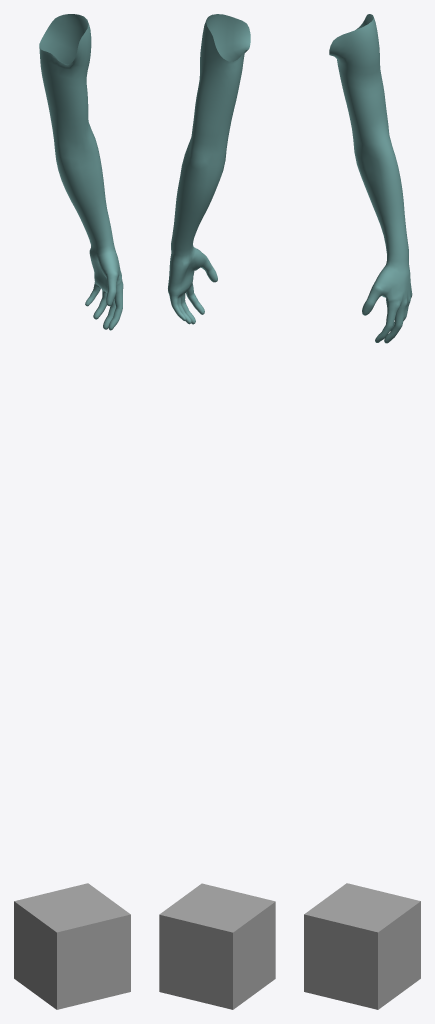
The model's file is test_arm.fbx.
3 renders of one model, left to right at view 1: azimuth 30°, elevation 25°; view 2: azimuth 150°, elevation 25°; view 3: azimuth 330°, elevation 25°, orthographic.
Parts seen in each view (by area): view 1: pPlane5; view 2: pPlane5; view 3: pPlane5.
Part boxes in pixels (<box>): pPlane5: <box>14,14,130,1009</box>; pPlane5: <box>159,14,275,1009</box>; pPlane5: <box>304,14,420,1009</box>.
Size of the model in its own units: 22.61 by 253 by 20.25.
